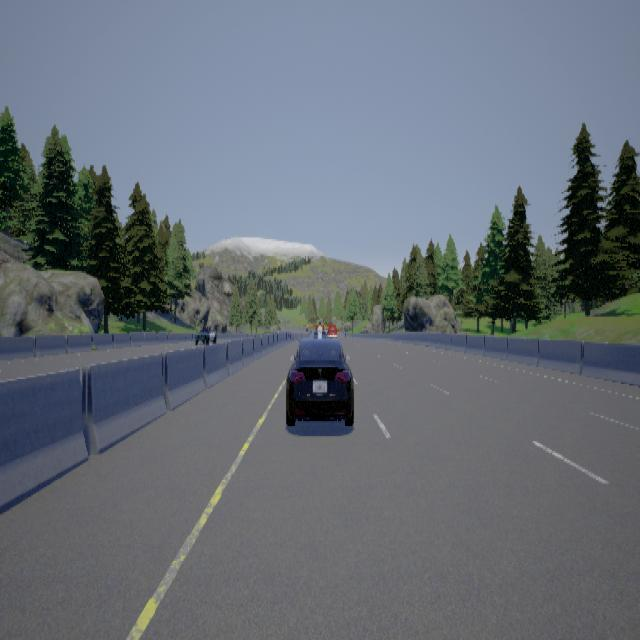vehicle: (285, 324, 353, 424)
